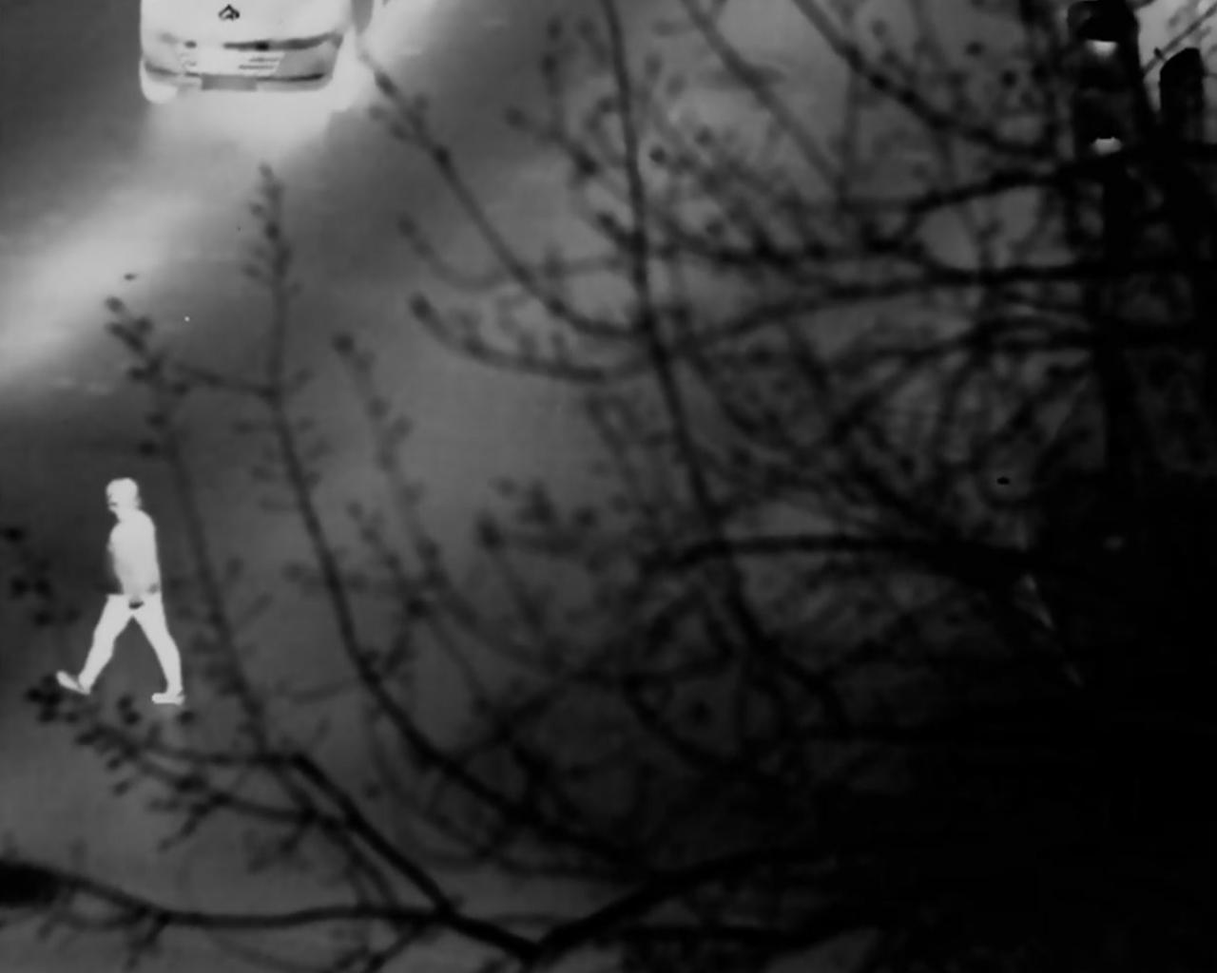person: (55, 478, 183, 707)
